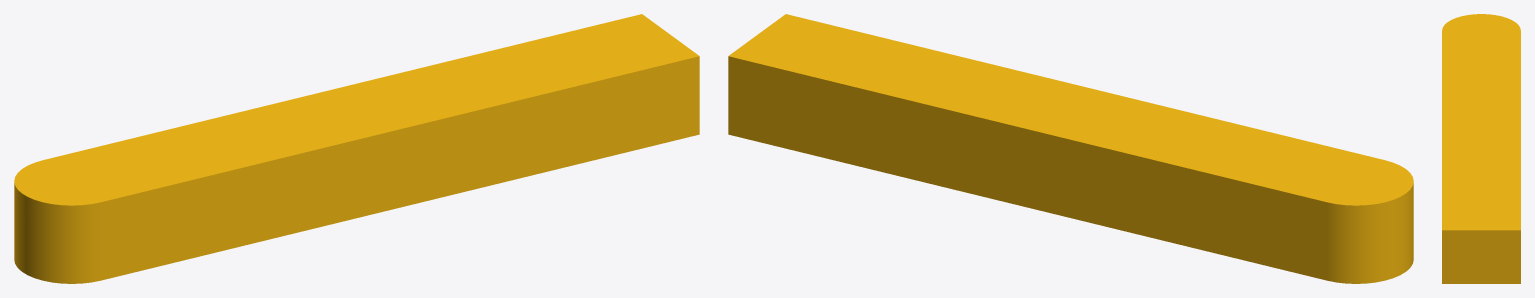
The picture shows the model from 3 angles, left to right: view 1: azimuth 30°, elevation 25°; view 2: azimuth 150°, elevation 25°; view 3: azimuth 270°, elevation 25°; orthographic projection. The views are drawn at different scales.
Parts seen in each view (by area): view 1: Part 1; view 2: Part 1; view 3: Part 1.
Boxes of the visible parts, <box> form: Part 1: <box>14,14,699,283</box>; Part 1: <box>728,14,1413,283</box>; Part 1: <box>1442,14,1520,283</box>.
Size of the model in its own units: 0.3302 by 0.0381 by 0.0508.
